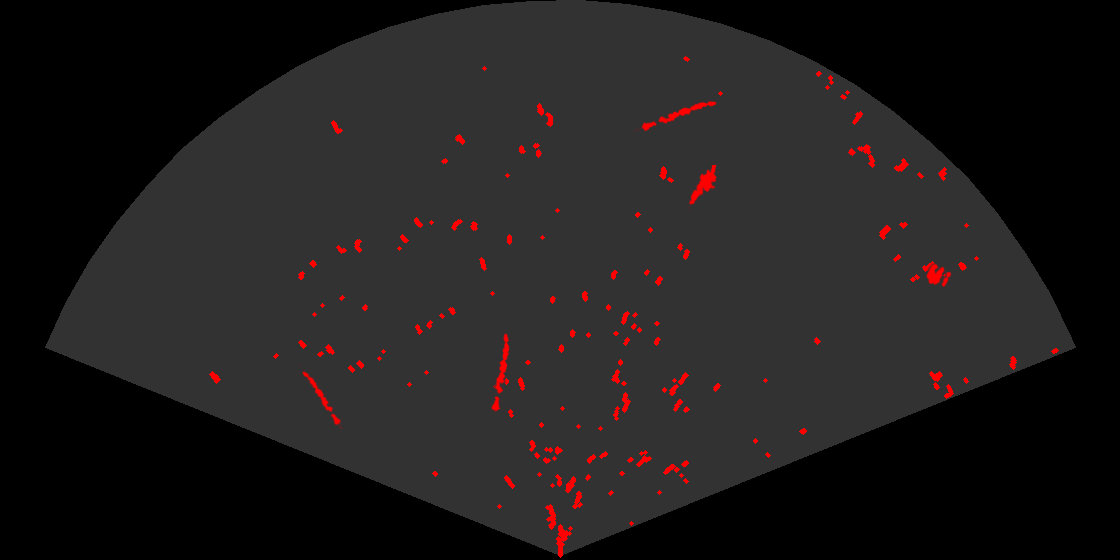ball: (925, 262, 953, 288)
chain: (298, 362, 345, 429), (634, 99, 718, 133), (490, 331, 511, 414)
frogman: (687, 165, 718, 209)
